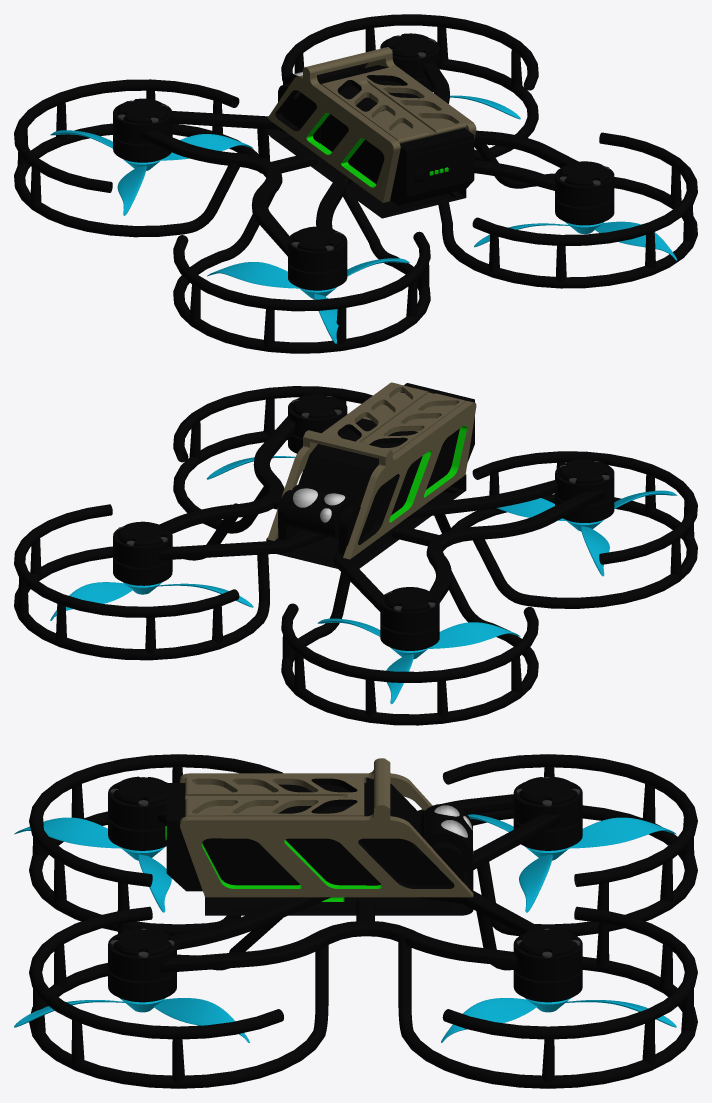
The model's file is drone.obj.
The picture shows the model from 3 angles, top to bottom: view 1: azimuth 30°, elevation 25°; view 2: azimuth 150°, elevation 25°; view 3: azimuth 270°, elevation 25°; orthographic projection. The views are drawn at different scales.
Visible parts, largest first — view 1: Cube.004; view 2: Cube.004; view 3: Cube.004.
Part boxes in pixels (x1,y1,x2,y2): Cube.004: (14,14,697,353); Cube.004: (14,382,697,725); Cube.004: (14,754,697,1088).
Size of the model in its own units: 7.03 by 2.01 by 7.32.
